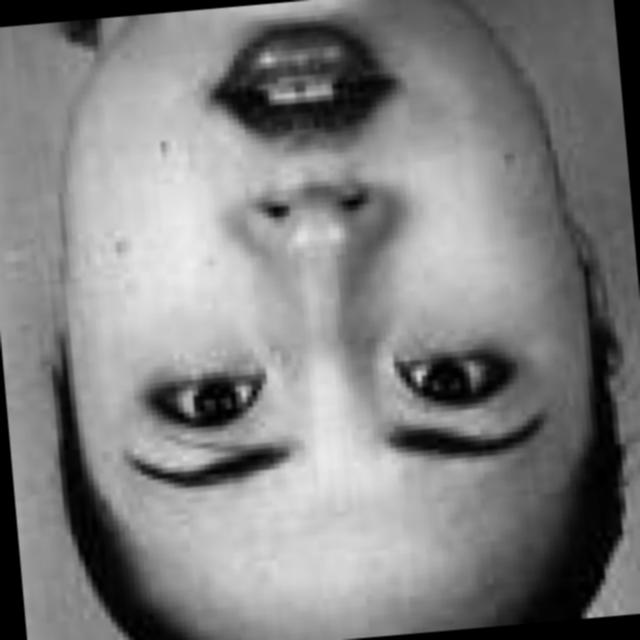fear: (54, 0, 585, 613)
